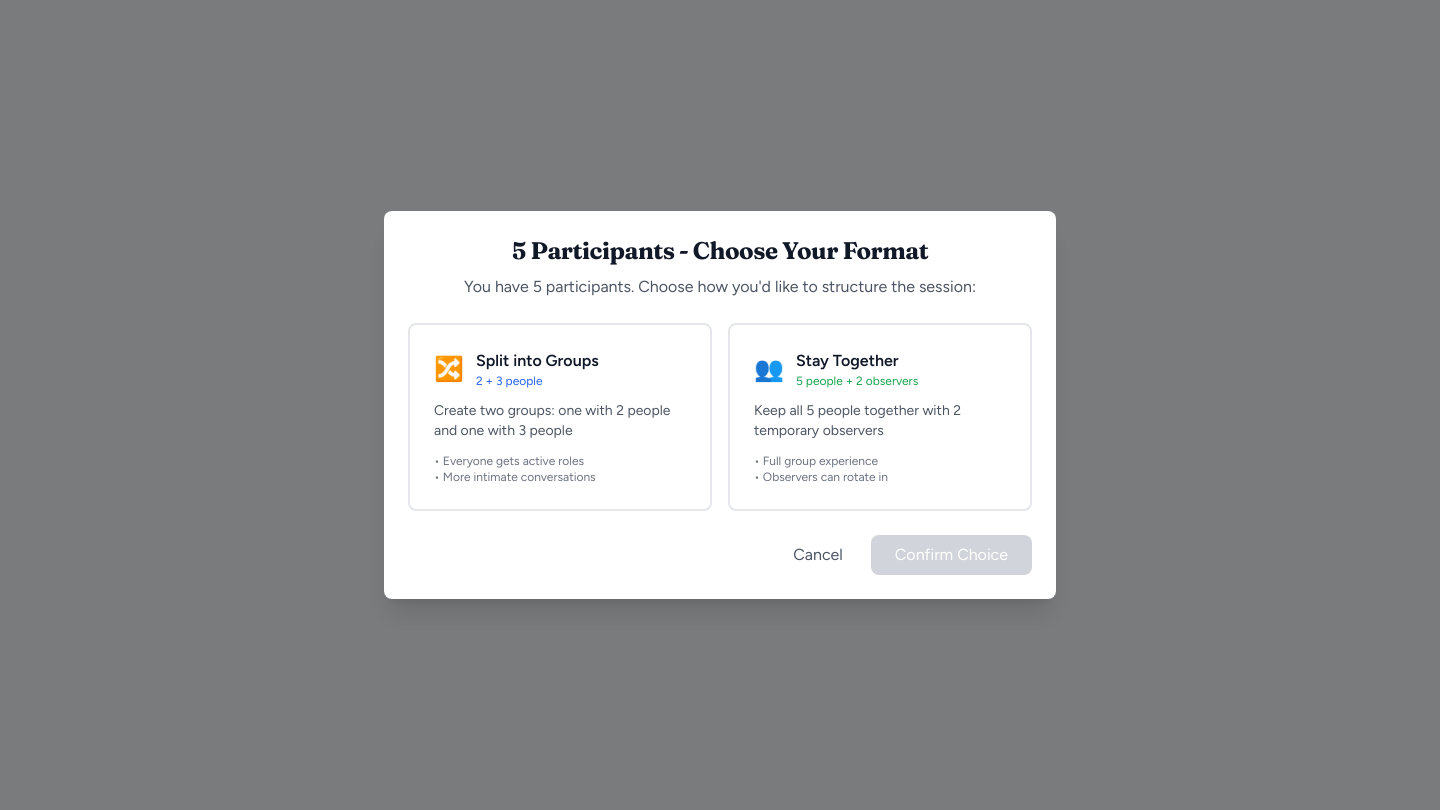
Scenario: FivePersonGroupingChoice › should enable confirm button only when an option is selected
This screenshot has width=1440, height=810.
Expected: the button "Confirm Choice" is disabled, [871,535,1032,575]
Select split option
Click the button "Split into Groups": (560, 417) [408,323,712,511]
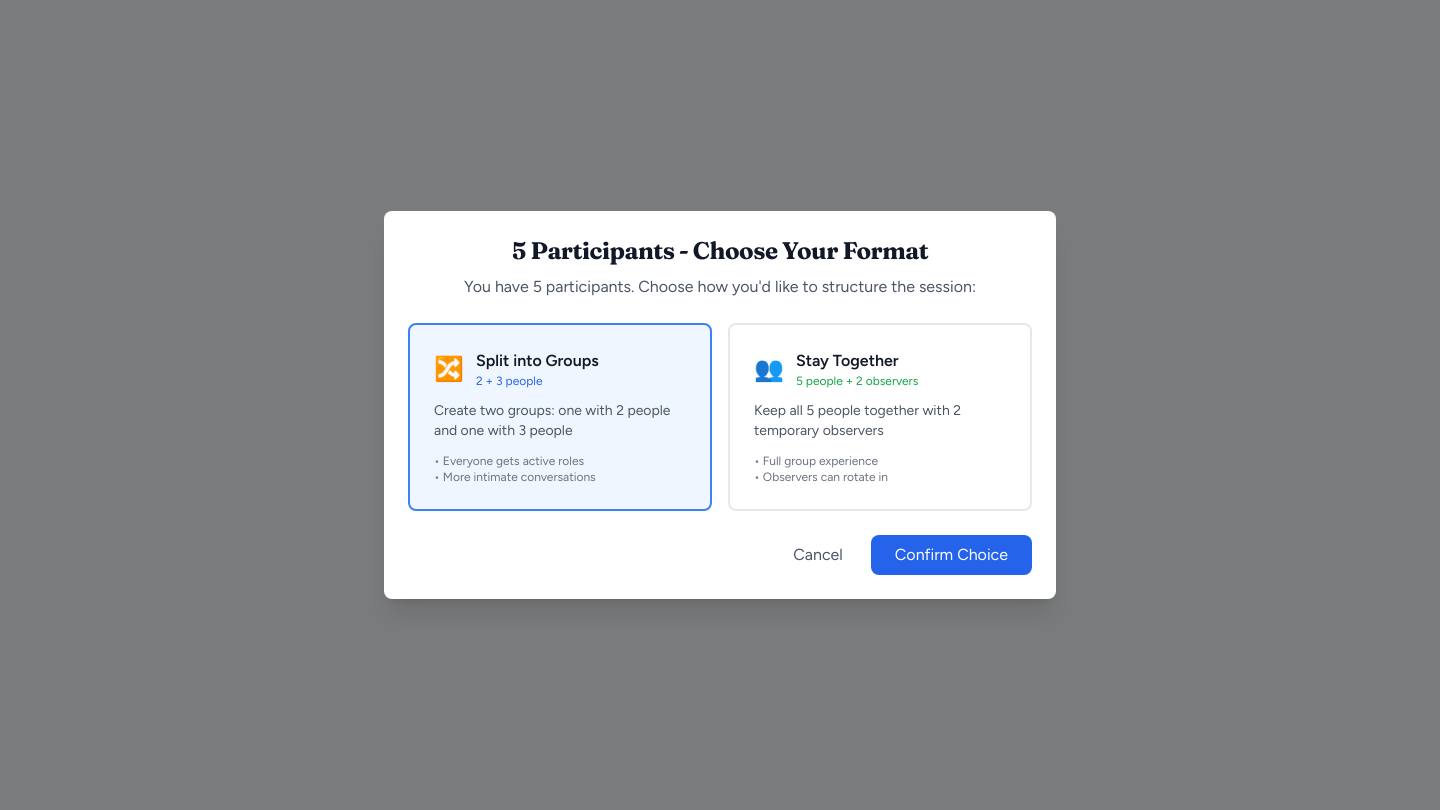
Expected: the button "Confirm Choice" is enabled, [871,535,1032,575]
